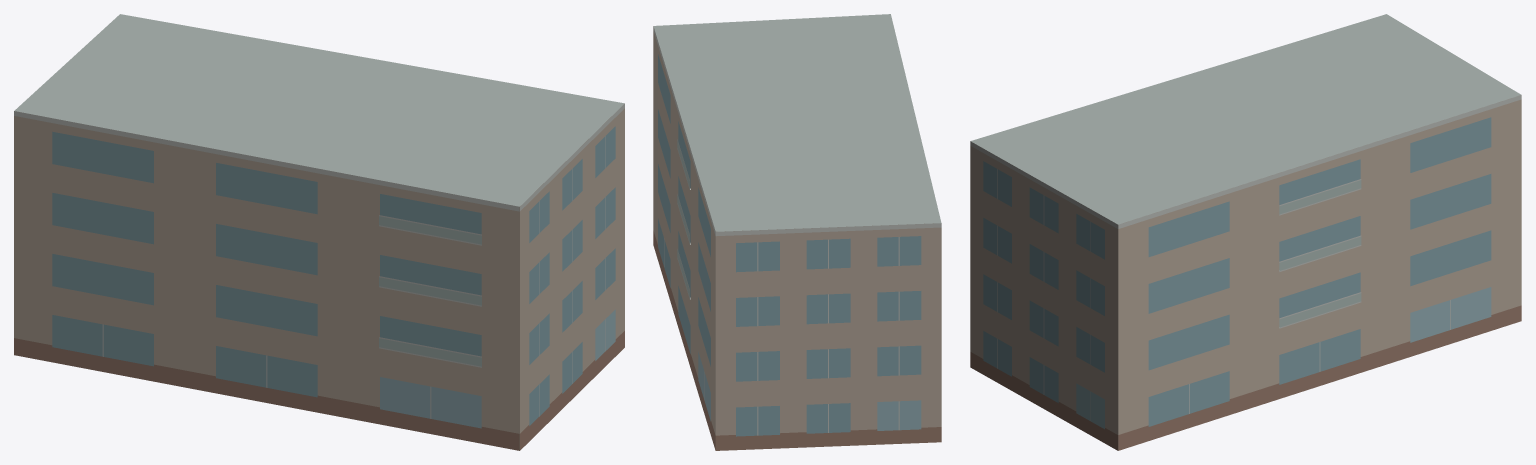
File: survey-upis-32905770.glb
The picture shows the model from 3 angles, left to right: view 1: azimuth 30°, elevation 25°; view 2: azimuth 150°, elevation 25°; view 3: azimuth 270°, elevation 25°; orthographic projection. The views are drawn at different scales.
Parts seen in each view (by area): view 1: survey-upis-32905770.tmp; view 2: survey-upis-32905770.tmp; view 3: survey-upis-32905770.tmp.
Part boxes in pixels (x1,y1,x2,y2): survey-upis-32905770.tmp: (14,14,624,450); survey-upis-32905770.tmp: (653,14,941,450); survey-upis-32905770.tmp: (970,14,1521,450).
Bounding box in the file's own units: 24.37 × 12.2 × 26.95.
